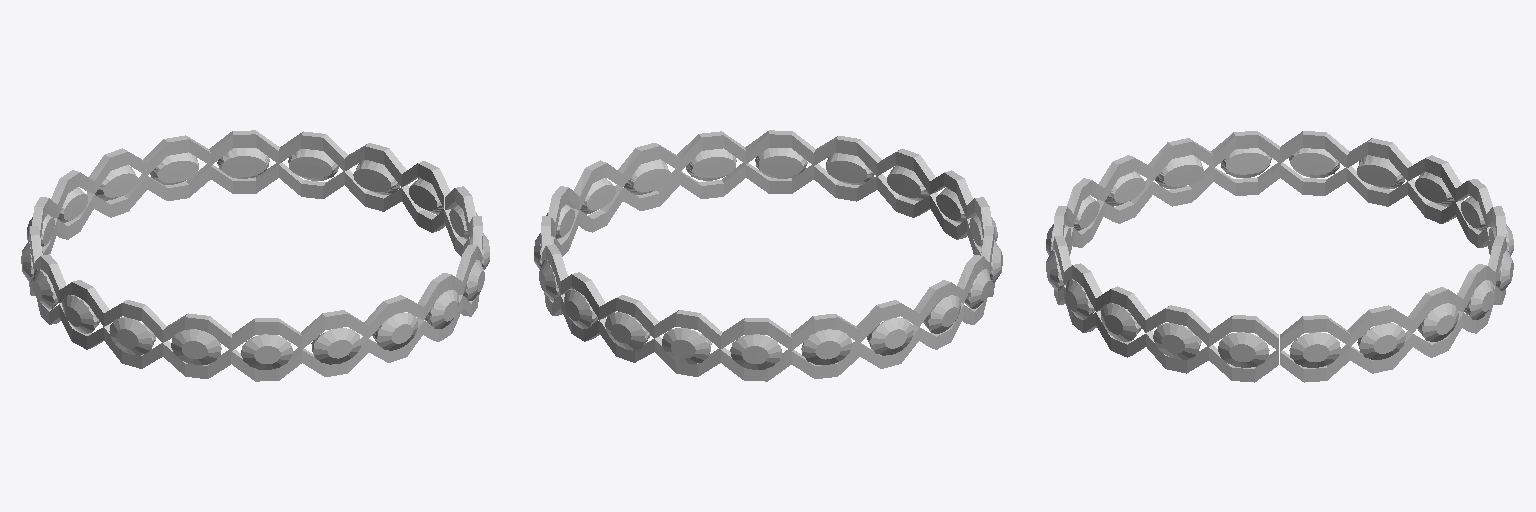
Rendered from crown1.obj.
3 renders of one model, left to right at view 1: azimuth 30°, elevation 25°; view 2: azimuth 150°, elevation 25°; view 3: azimuth 270°, elevation 25°, orthographic.
Visible parts, largest first — view 1: polySurface81; view 2: polySurface81; view 3: polySurface81.
Part boxes in pixels (x1,y1,x2,y2): polySurface81: (21,130,489,381); polySurface81: (534,130,1002,381); polySurface81: (1046,131,1513,382).
Size of the model in its own units: 24.69 by 3.64 by 24.72.